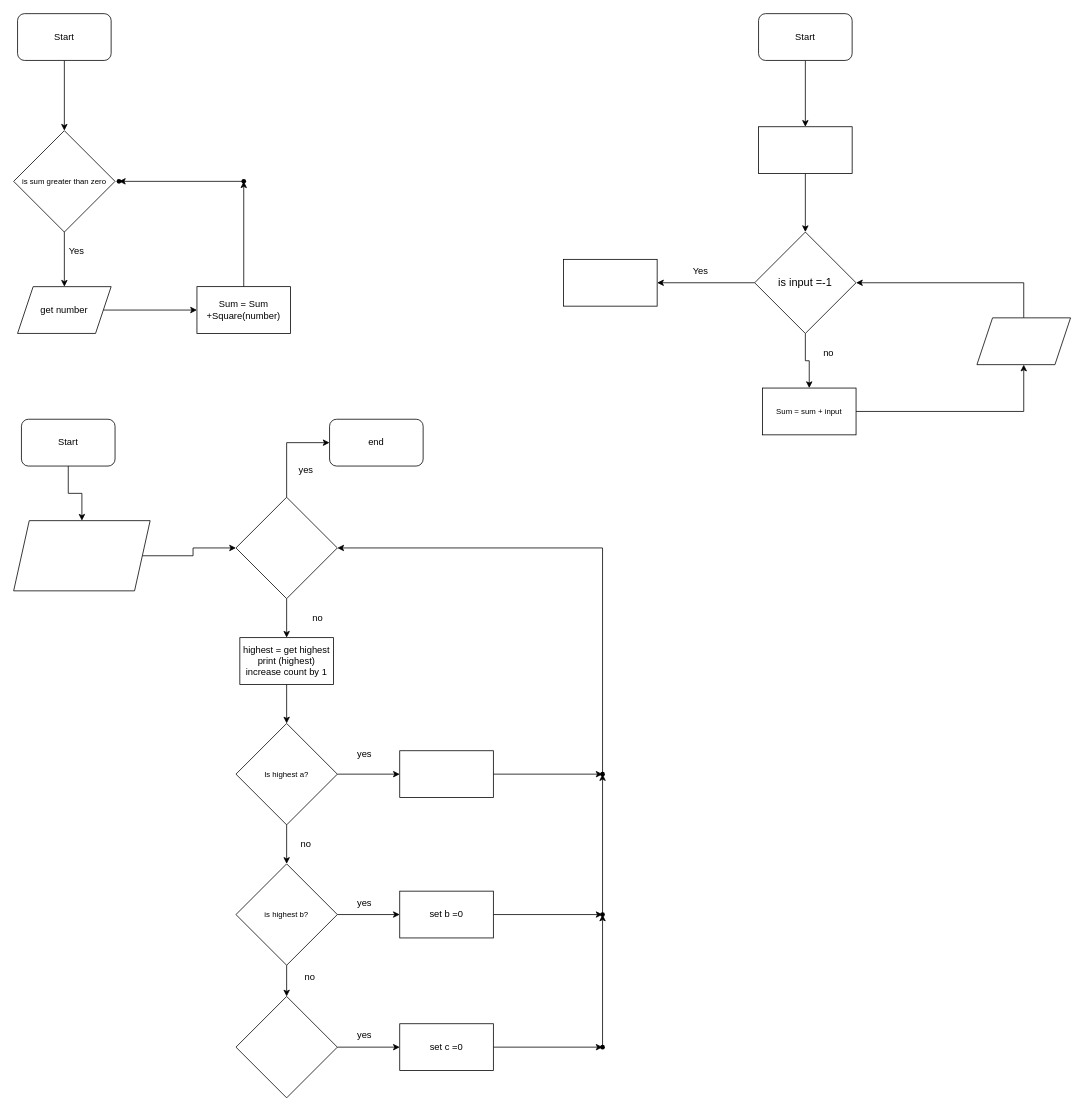
The diagram is 1084 pixels wide and 1112 high, and some of its shapes have lost their labels. Each missing label, with the box of its shape:
a = get input b = get input c = get input: (13, 520, 150, 591)
get input: (976, 317, 1071, 365)
input = 0: (758, 126, 852, 174)
is count greater than 3: (235, 496, 337, 599)
is highest c?: (235, 996, 337, 1098)
Print sum: (563, 259, 657, 306)
set a =0: (399, 750, 493, 798)
